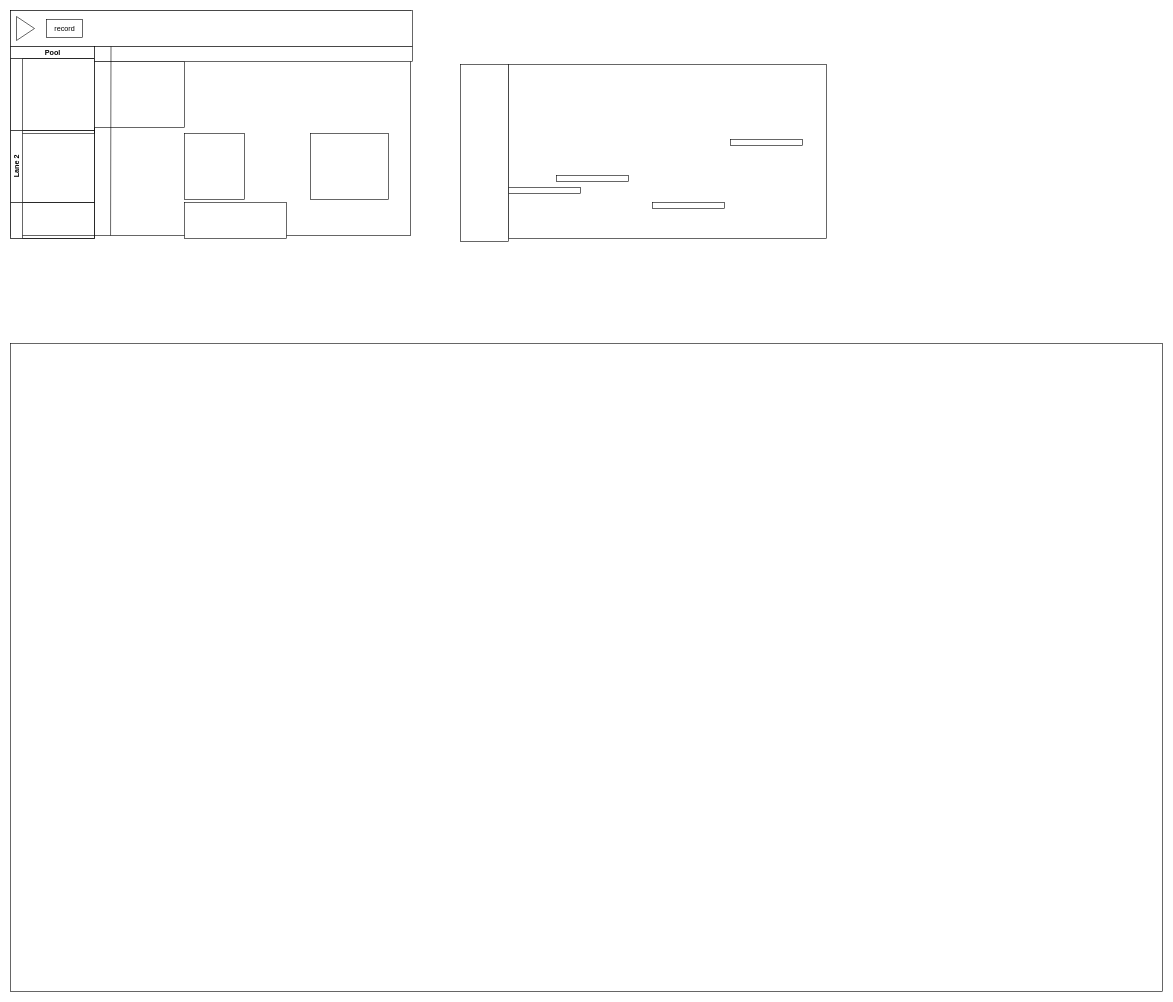
The diagram is 1173 pixels wide and 1002 high, and some of its shapes have lost their labels. Here are the shapes that lost their labels. From the top down, the box of each, then its label:
(10, 58, 94, 130): Lane 1
(10, 202, 94, 238): Lane 3
